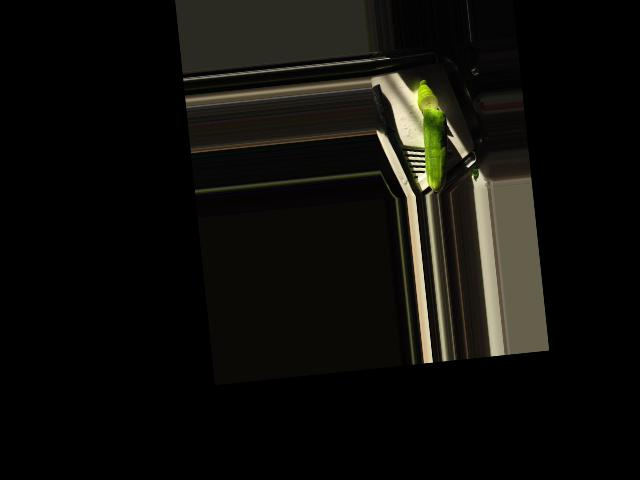cucumber: (419, 106, 453, 192)
